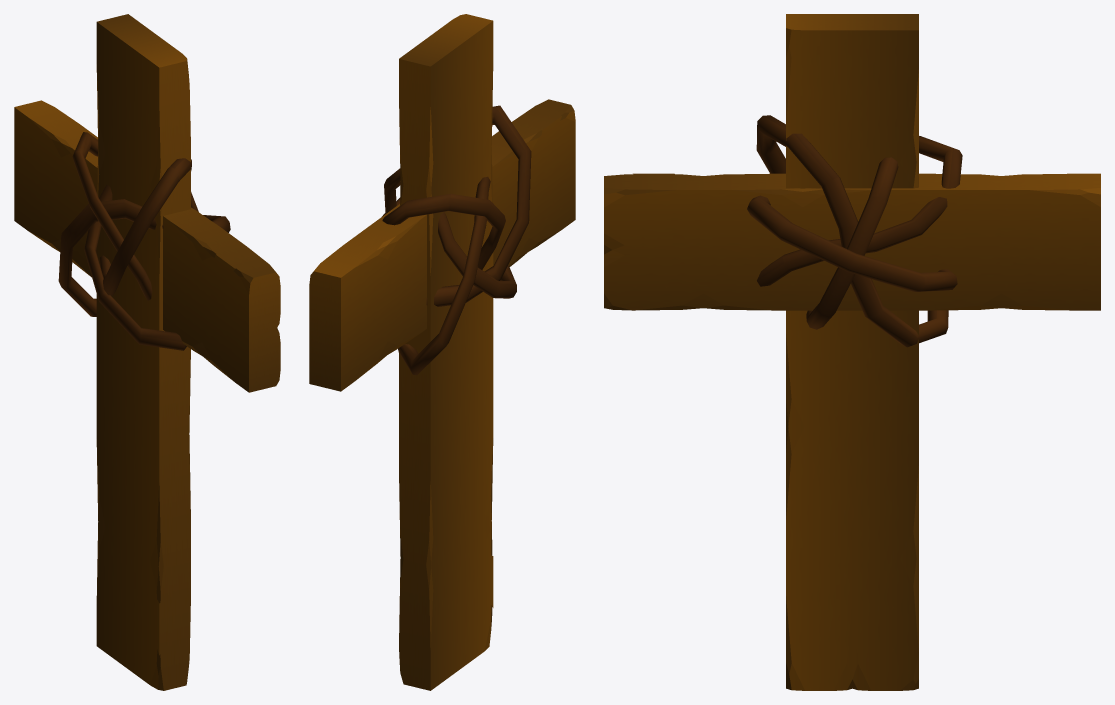
File: Grave_3.fbx
3 renders of one model, left to right at view 1: azimuth 30°, elevation 25°; view 2: azimuth 150°, elevation 25°; view 3: azimuth 270°, elevation 25°, orthographic. The views are drawn at different scales.
Visible parts, largest first — view 1: Cube.089, Cube.088, Torus Knot 2 x 3.001, Torus Knot 2 x 3; view 2: Cube.089, Cube.088, Torus Knot 2 x 3.001, Torus Knot 2 x 3; view 3: Cube.089, Cube.088, Torus Knot 2 x 3.001, Torus Knot 2 x 3.
Boxes of the visible parts, bbox=[...] form: Cube.089: bbox=[96, 14, 190, 690]; Cube.088: bbox=[14, 100, 280, 392]; Torus Knot 2 x 3.001: bbox=[58, 158, 230, 316]; Torus Knot 2 x 3: bbox=[72, 132, 198, 350]; Cube.089: bbox=[399, 14, 493, 690]; Cube.088: bbox=[309, 99, 575, 391]; Torus Knot 2 x 3.001: bbox=[382, 105, 531, 375]; Torus Knot 2 x 3: bbox=[382, 168, 516, 298]; Cube.089: bbox=[786, 14, 918, 690]; Cube.088: bbox=[604, 173, 1100, 310]; Torus Knot 2 x 3.001: bbox=[747, 115, 957, 347]; Torus Knot 2 x 3: bbox=[757, 136, 962, 329].
Size of the model in its own units: 39.84 by 200 by 136.
1 material, 1 textured.
